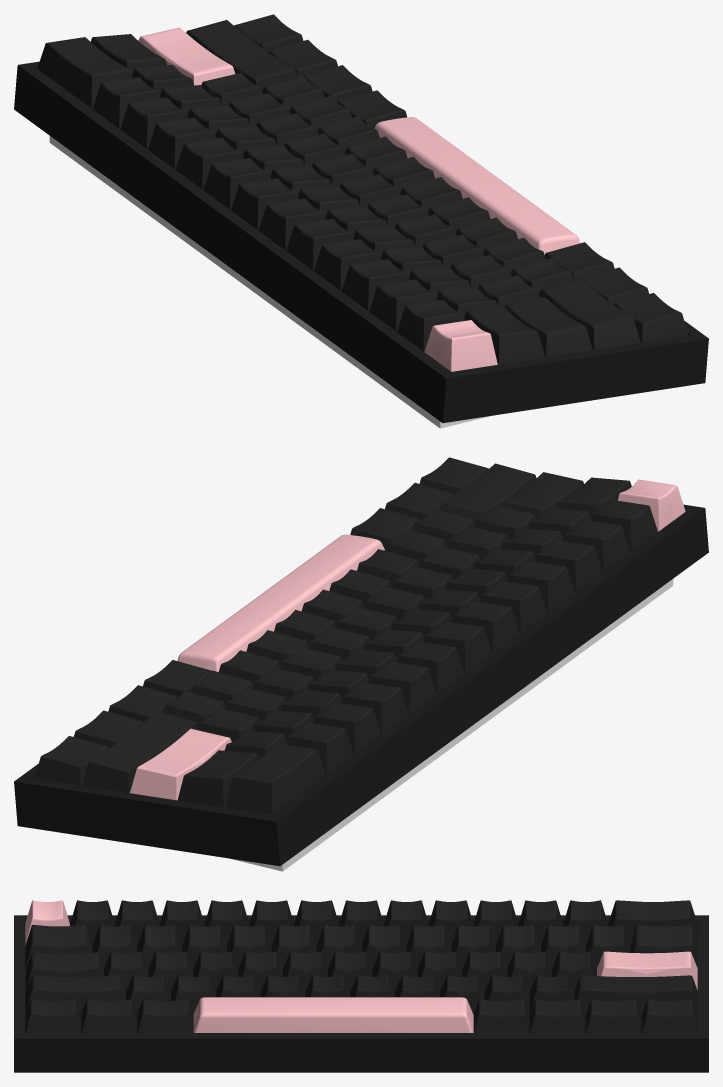
The model's file is keyboard.glb.
The picture shows the model from 3 angles, top to bottom: view 1: azimuth 30°, elevation 25°; view 2: azimuth 150°, elevation 25°; view 3: azimuth 270°, elevation 25°; orthographic projection. The views are drawn at different scales.
Visible parts, largest first — view 1: Cube.062, Cube.059, Cube.013, Cube.057, Cube.042, Cube.040, Cube, Cube.028, Cube.041, Cube.027, Cube.056, Cube.003 (+50 smaller); view 2: Cube.062, Cube.059, Cube.013, Cube.042, Cube.041, Cube.040, Cube.057, Cube.026, Cube.054, Cube.028, Cube.014, Cube.006 (+50 smaller); view 3: Cube.062, Cube.059, Cube.042, Cube.057, Cube.041, Cube.013, Cube.027, Cube.026, Cube.028, Cube.061, Cube.054, Cube.056 (+49 smaller).
Part boxes in pixels (x1,y1,x2,y2): Cube.062: (14,61,708,423); Cube.059: (374,117,614,280); Cube.013: (37,37,132,108); Cube.057: (538,278,640,349); Cube.042: (186,20,297,90); Cube.040: (49,136,492,428); Cube: (424,320,497,371); Cube.028: (505,297,592,357); Cube.041: (138,27,235,85); Cube.027: (464,308,545,364); Cube.056: (614,293,688,342); Cube.003: (341,259,409,311); Cube.062: (14,504,708,866); Cube.059: (177,508,419,671); Cube.013: (225,743,325,814); Cube.042: (82,711,198,792); Cube.041: (130,728,231,800); Cube.040: (230,579,673,871); Cube.057: (440,463,536,523); Cube.026: (177,750,258,807); Cube.054: (34,736,108,785); Cube.028: (501,472,583,519); Cube.014: (286,722,353,774); Cube.006: (452,601,519,653); Cube.062: (14,915,708,1072); Cube.059: (137,997,473,1032); Cube.042: (574,975,697,1013); Cube.057: (25,975,125,1012); Cube.041: (597,951,697,990); Cube.013: (608,900,697,945); Cube.027: (25,924,92,968); Cube.026: (630,924,697,967); Cube.028: (25,952,103,989); Cube.061: (473,999,529,1032); Cube.054: (641,999,697,1032); Cube.056: (25,999,81,1032).
Size of the model in its own units: 11.12 by 3.78 by 31.
